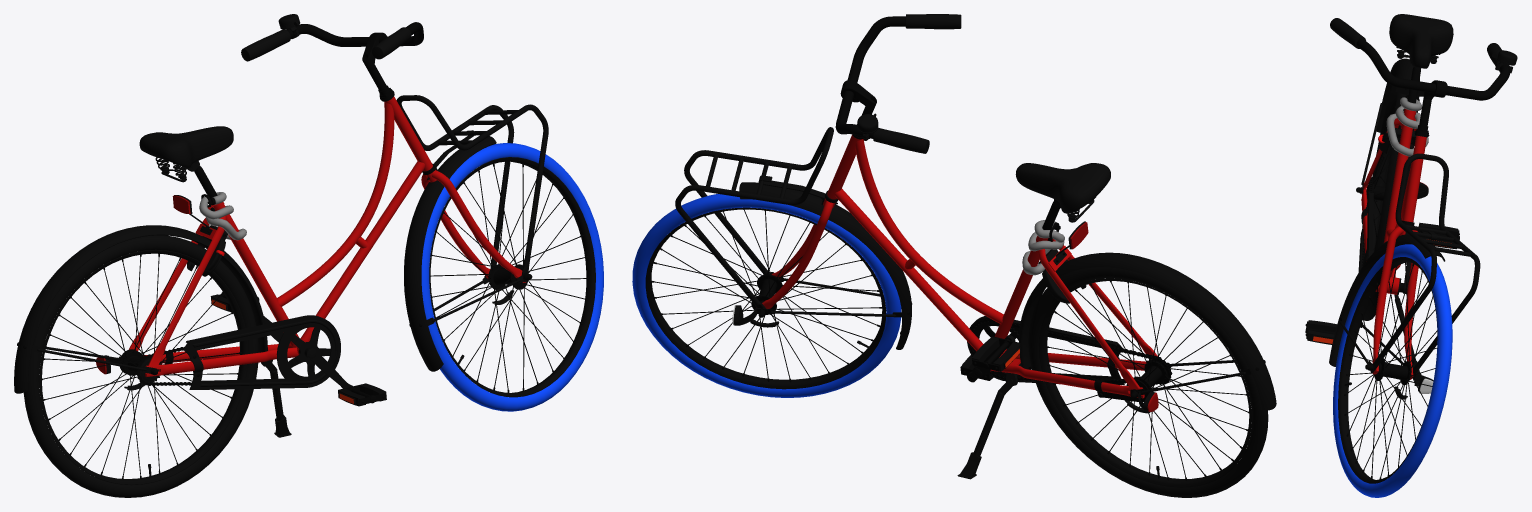
Rendered from bicycle.fbx.
3 renders of one model, left to right at view 1: azimuth 30°, elevation 25°; view 2: azimuth 150°, elevation 25°; view 3: azimuth 270°, elevation 25°, orthographic. The views are drawn at different scales.
Parts seen in each view (by area): view 1: swapfiets_frame, frontfork, rear_tire, front_wheel, rear_wheel, front_tire, chain_guard, seat, steer, crank, lock_cable, pedal_01 (+1 smaller); view 2: swapfiets_frame, frontfork, front_wheel, front_tire, rear_wheel, rear_tire, steer, seat, chain_guard, pedal_002, lock_cable, bike_stand (+2 smaller); view 3: frontfork, front_tire, front_wheel, swapfiets_frame, steer, seat, rear_wheel, lock_cable, chain_guard, pedal_01, rear_tire, bell (+3 smaller).
Part boxes in pixels (x1,y1,x2,y2): swapfiets_frame: (14, 85, 435, 393); frontfork: (396, 95, 548, 371); rear_tire: (23, 235, 258, 497); front_wheel: (429, 157, 595, 397); rear_wheel: (39, 249, 248, 485); front_tire: (421, 143, 603, 411); chain_guard: (183, 315, 340, 389); seat: (139, 126, 233, 198); steer: (241, 22, 423, 91); crank: (264, 316, 352, 388); lock_cable: (199, 192, 246, 240); pedal_01: (338, 383, 386, 406); swapfiets_frame: (825, 124, 1276, 411); frontfork: (675, 127, 912, 349); front_wheel: (645, 207, 886, 389); front_tire: (632, 194, 901, 397); rear_wheel: (1039, 278, 1251, 487); rear_tire: (1028, 267, 1268, 497); steer: (835, 14, 961, 153); seat: (1015, 163, 1110, 229); chain_guard: (967, 316, 1124, 384); pedal_002: (972, 336, 1021, 371); lock_cable: (1022, 220, 1064, 275); bike_stand: (957, 379, 1012, 479); frontfork: (1329, 153, 1480, 393); front_tire: (1333, 244, 1452, 497); front_wheel: (1338, 257, 1437, 483); swapfiets_frame: (1356, 58, 1429, 294); steer: (1330, 18, 1510, 126); seat: (1389, 14, 1453, 103); rear_wheel: (1364, 87, 1396, 257); lock_cable: (1386, 94, 1428, 156); chain_guard: (1358, 192, 1373, 272); pedal_01: (1305, 320, 1336, 344); rear_tire: (1362, 73, 1397, 320); bell: (1491, 50, 1517, 73).
Size of the model in its own units: 182 by 117 by 57.71.
